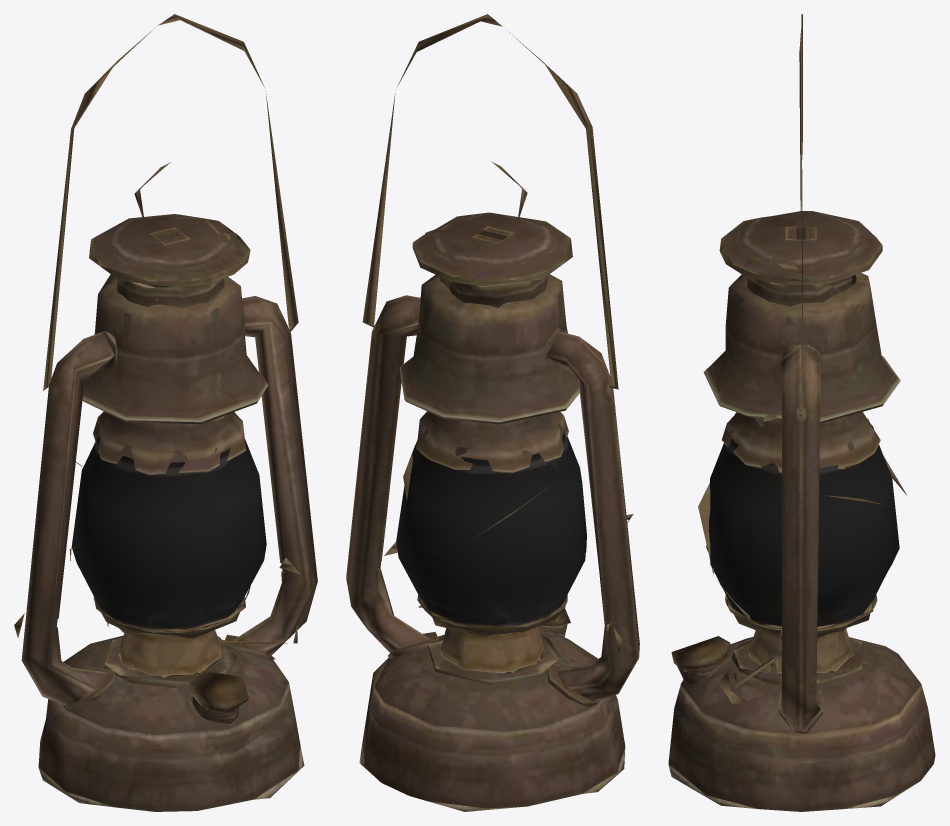
File: Lantern_01.glb
3 renders of one model, left to right at view 1: azimuth 30°, elevation 25°; view 2: azimuth 150°, elevation 25°; view 3: azimuth 270°, elevation 25°, orthographic.
Parts seen in each view (by area): view 1: Lantern_01, Lantern_01_glass; view 2: Lantern_01, Lantern_01_glass; view 3: Lantern_01, Lantern_01_glass.
Boxes of the visible parts, bbox=[...] form: Lantern_01: bbox=[14, 14, 317, 811]; Lantern_01_glass: bbox=[71, 435, 266, 634]; Lantern_01: bbox=[346, 14, 639, 811]; Lantern_01_glass: bbox=[396, 432, 586, 626]; Lantern_01: bbox=[668, 14, 935, 811]; Lantern_01_glass: bbox=[706, 418, 899, 626].
Bounding box in the file's own units: 0.1219 × 0.2939 × 0.095.
Materials: 2 (2 with a texture image).
